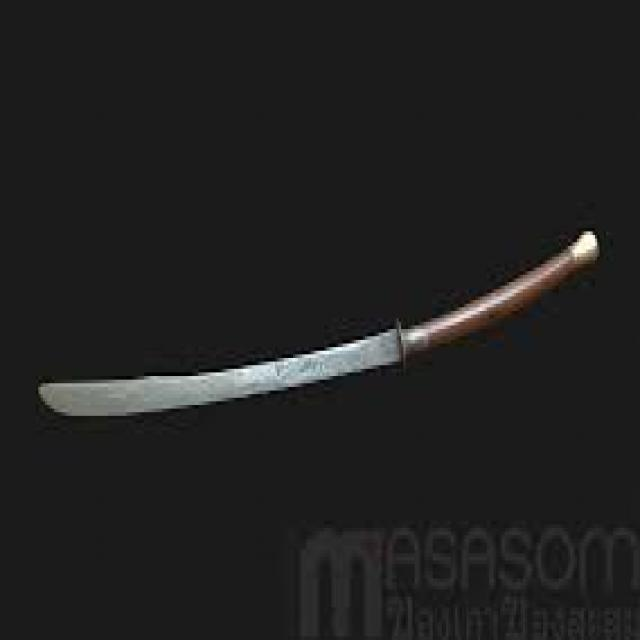long sword: (37, 230, 600, 422)
